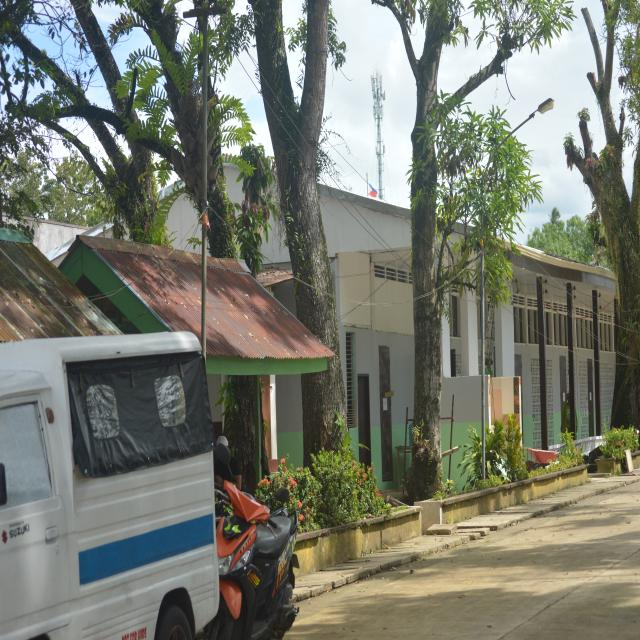person: (214, 455, 241, 490)
